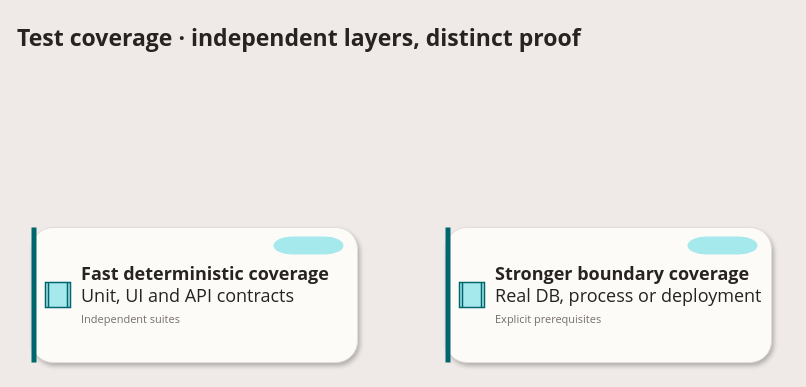
Some shapes in this 806 by 387 pixel diagram are drawn without their labels. The centre of each missing label's shape, as x and y in pixels:
RESULT: the point at 722,245
SCOPE: the point at 308,245
